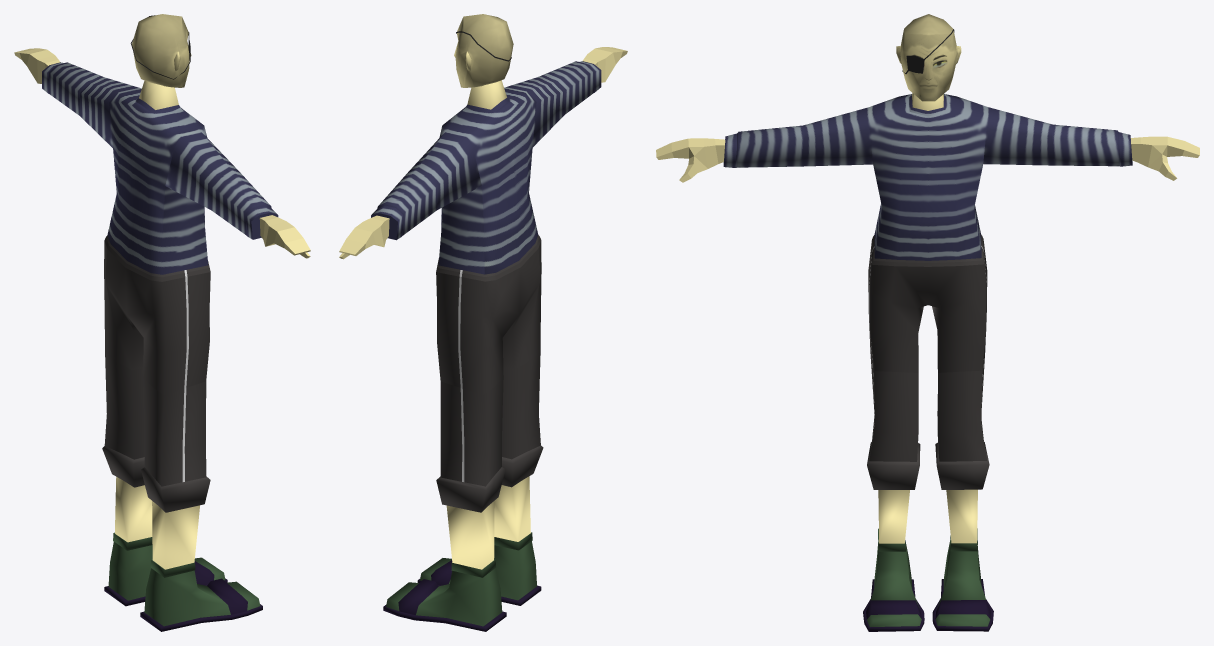
File: MamaVityi 1.fbx
The picture shows the model from 3 angles, left to right: view 1: azimuth 30°, elevation 25°; view 2: azimuth 150°, elevation 25°; view 3: azimuth 270°, elevation 25°; orthographic projection.
Visible parts, largest first — view 1: Telo.001; view 2: Telo.001; view 3: Telo.001.
Boxes of the visible parts, x1,y1,x2,y2 form: Telo.001: (14,14,310,631); Telo.001: (339,14,627,631); Telo.001: (656,14,1199,631).
Bounding box in the file's own units: 30.85 × 162 × 138.
Materials: 8 (2 with a texture image).
